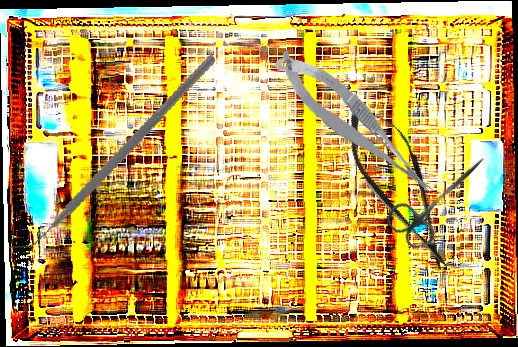Chopper: (7, 21, 216, 283)
Iris Scissors: (381, 138, 501, 256)
Micro Scissor: (266, 33, 442, 217), (331, 91, 470, 282)
